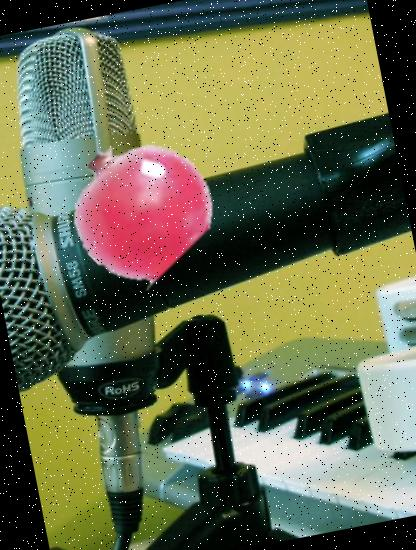Redcurrant: (56, 125, 218, 287)
